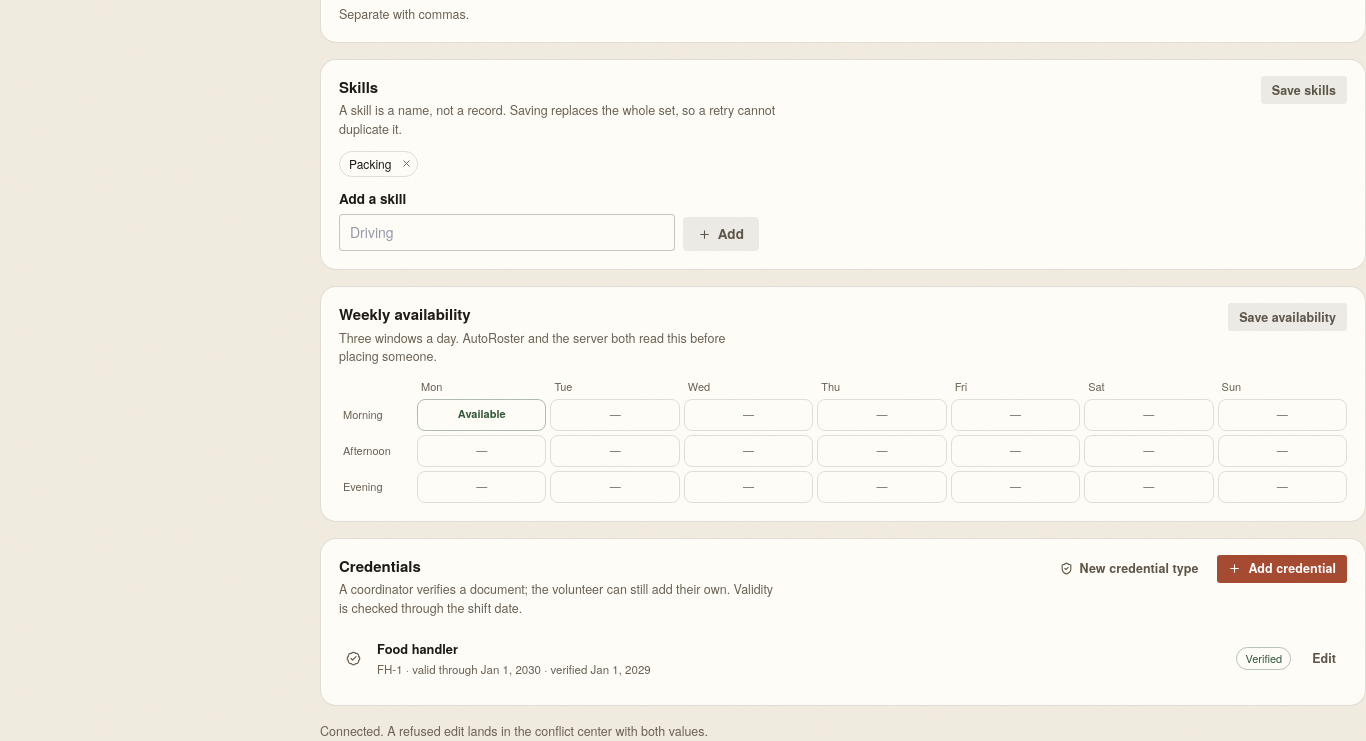
shared volunteer records › opens a credential form with the organization's type and queues it
Later steps or results of the test are not shown.
(page scrolled)
Click the button "Add credential". click: (1282, 569)
box: [1217,555,1347,583]
(page scrolled)
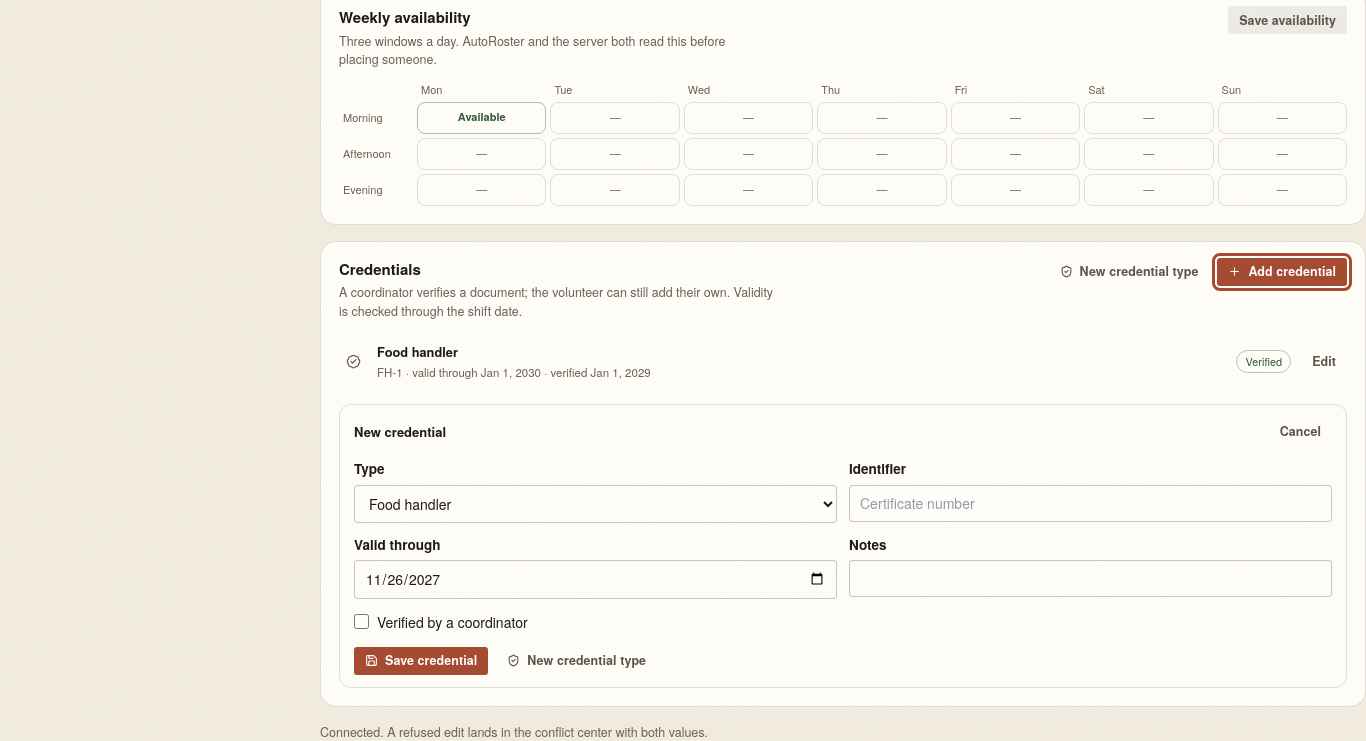
Expected: the heading "New credential" is shown, [354,422,446,441]
Expected: the dropdown labelled "Type" shows "Food handler", [354,485,837,523]
